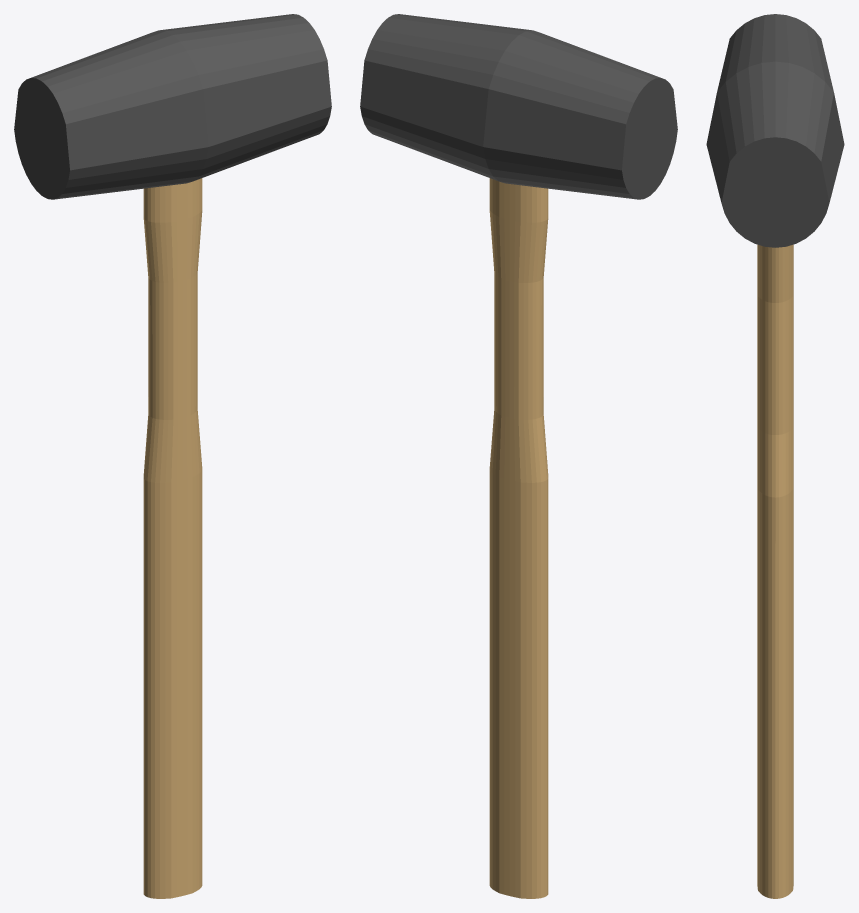
Rendered from Gamejam_Player_Hummer.fbx.
3 views of the same model, side by side, from view 1: azimuth 30°, elevation 25°; view 2: azimuth 150°, elevation 25°; view 3: azimuth 270°, elevation 25° (orthographic). The views are drawn at different scales.
Visible parts, largest first — view 1: hummer_head, hummer_e; view 2: hummer_head, hummer_e; view 3: hummer_head, hummer_e.
Boxes of the visible parts, bbox=[...] form: hummer_head: bbox=[14, 14, 331, 199]; hummer_e: bbox=[143, 178, 202, 898]; hummer_head: bbox=[360, 14, 677, 199]; hummer_e: bbox=[489, 178, 548, 898]; hummer_head: bbox=[706, 14, 844, 247]; hummer_e: bbox=[757, 244, 793, 898].
Bounding box in the file's own units: 132 × 411 × 62.4.
